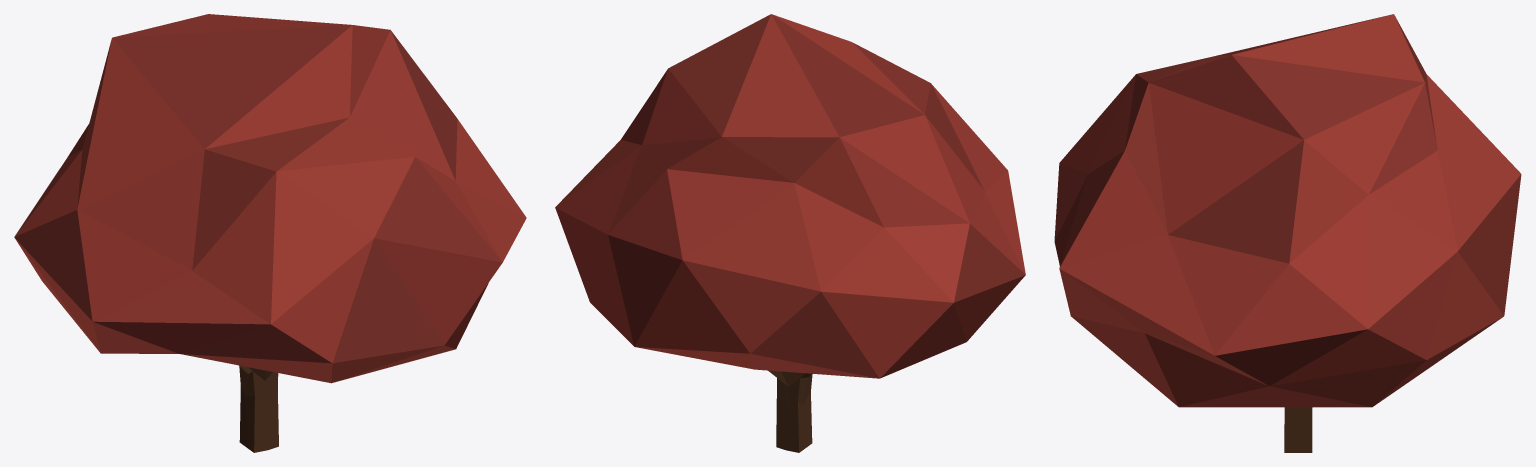
The model's file is Tree_8_Red.fbx.
3 views of the same model, side by side, from view 1: azimuth 30°, elevation 25°; view 2: azimuth 150°, elevation 25°; view 3: azimuth 270°, elevation 25° (orthographic). The views are drawn at different scales.
Visible parts, largest first — view 1: Tree_8_Red_Part_1, Tree_8_Red_Part_2; view 2: Tree_8_Red_Part_1, Tree_8_Red_Part_2; view 3: Tree_8_Red_Part_1, Tree_8_Red_Part_2.
Boxes of the visible parts, x1,y1,x2,y2 form: Tree_8_Red_Part_1: (14,14,526,383); Tree_8_Red_Part_2: (239,365,278,452); Tree_8_Red_Part_1: (555,14,1025,378); Tree_8_Red_Part_2: (768,370,812,452); Tree_8_Red_Part_1: (1054,14,1521,407); Tree_8_Red_Part_2: (1284,407,1312,452).
Size of the model in its own units: 804 by 762 by 766.
